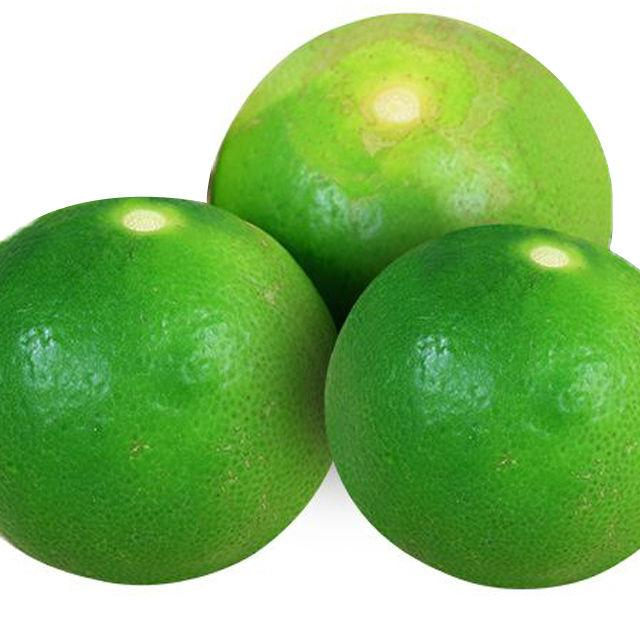lime: (0, 7, 640, 590), (0, 202, 347, 582), (325, 230, 640, 587), (210, 5, 620, 272)
